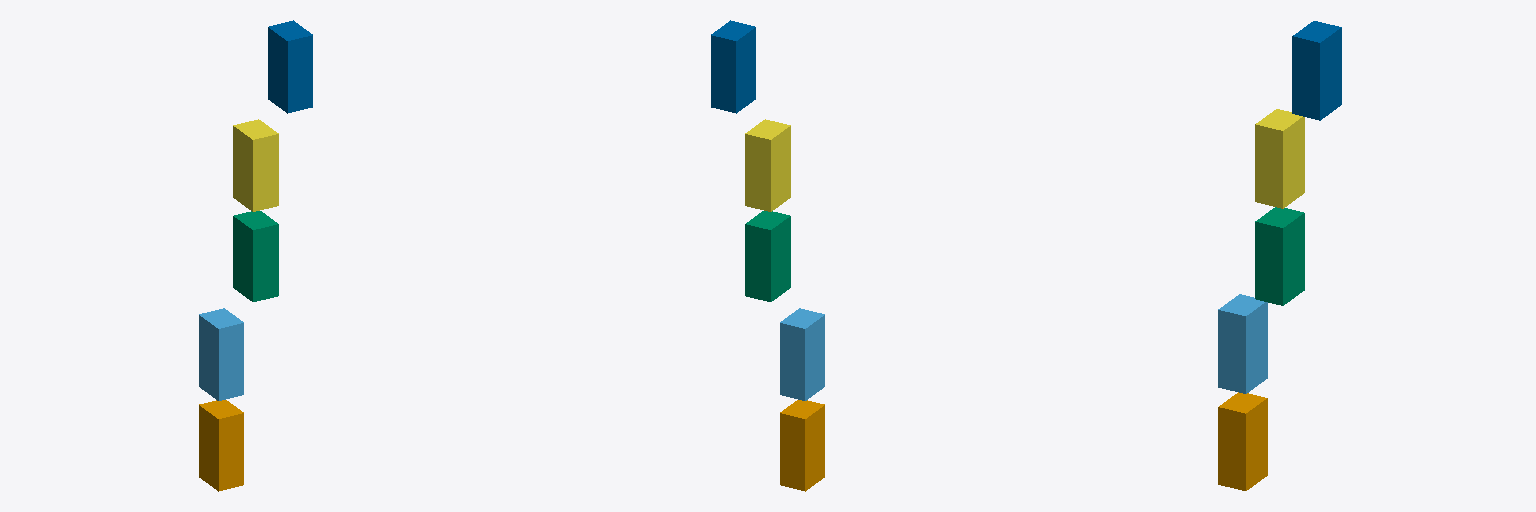
robot.urdf — AcceptanceRobot:
<?xml version="1.0"?>
<robot name="AcceptanceRobot">
<link name="link0">
<inertial><origin xyz="0 0 0.04"/><mass value="1"/><inertia ixx="0.002" iyy="0.002" izz="0.001" ixy="0" ixz="0" iyz="0"/></inertial>
<visual><origin xyz="0 0 0.04"/><geometry><box size="0.03 0.04 0.08"/></geometry></visual>
<collision><origin xyz="0 0 0.04"/><geometry><box size="0.03 0.04 0.08"/></geometry></collision>
</link>
<link name="link1">
<inertial><origin xyz="0 0 0.04"/><mass value="1"/><inertia ixx="0.002" iyy="0.002" izz="0.001" ixy="0" ixz="0" iyz="0"/></inertial>
<visual><origin xyz="0 0 0.04"/><geometry><box size="0.03 0.04 0.08"/></geometry></visual>
<collision><origin xyz="0 0 0.04"/><geometry><box size="0.03 0.04 0.08"/></geometry></collision>
</link>
<link name="link2">
<inertial><origin xyz="0 0 0.04"/><mass value="1"/><inertia ixx="0.002" iyy="0.002" izz="0.001" ixy="0" ixz="0" iyz="0"/></inertial>
<visual><origin xyz="0 0 0.04"/><geometry><box size="0.03 0.04 0.08"/></geometry></visual>
<collision><origin xyz="0 0 0.04"/><geometry><box size="0.03 0.04 0.08"/></geometry></collision>
</link>
<link name="link3">
<inertial><origin xyz="0 0 0.04"/><mass value="1"/><inertia ixx="0.002" iyy="0.002" izz="0.001" ixy="0" ixz="0" iyz="0"/></inertial>
<visual><origin xyz="0 0 0.04"/><geometry><box size="0.03 0.04 0.08"/></geometry></visual>
<collision><origin xyz="0 0 0.04"/><geometry><box size="0.03 0.04 0.08"/></geometry></collision>
</link>
<link name="link4">
<inertial><origin xyz="0 0 0.04"/><mass value="1"/><inertia ixx="0.002" iyy="0.002" izz="0.001" ixy="0" ixz="0" iyz="0"/></inertial>
<visual><origin xyz="0 0 0.04"/><geometry><box size="0.03 0.04 0.08"/></geometry></visual>
<collision><origin xyz="0 0 0.04"/><geometry><box size="0.03 0.04 0.08"/></geometry></collision>
</link>
<joint name="joint1" type="revolute"><parent link="link0"/><child link="link1"/>
<origin xyz="0 0 0.10" rpy="0 0 0"/><axis xyz="0 0 1"/><limit lower="-2" upper="2" effort="100" velocity="1"/></joint>
<joint name="joint2" type="revolute"><parent link="link1"/><child link="link2"/>
<origin xyz="0.04 0 0.10" rpy="0 0 0"/><axis xyz="0 1 0"/><limit lower="-2" upper="2" effort="100" velocity="1"/></joint>
<joint name="joint3" type="revolute"><parent link="link2"/><child link="link3"/>
<origin xyz="0 0 0.10" rpy="0 0 0"/><axis xyz="0 1 0"/><limit lower="-2" upper="2" effort="100" velocity="1"/></joint>
<joint name="joint4" type="revolute"><parent link="link3"/><child link="link4"/>
<origin xyz="0.04 0 0.10" rpy="0 0 0"/><axis xyz="1 0 0"/><limit lower="-2" upper="2" effort="100" velocity="1"/></joint>
</robot>

--- Facts derived from the render (not from the file) ---
Views: 3 orthographic renders of the robot side by side, from view 1: azimuth 30°, elevation 25°; view 2: azimuth 150°, elevation 25°; view 3: azimuth 330°, elevation 25°.
Robot: AcceptanceRobot — 5 links, 4 joints (4 revolute); root link link0; default pose: every joint at zero.
Visible links, largest first — view 1: link3, link2, link1, link4, link0; view 2: link3, link2, link1, link4, link0; view 3: link4, link2, link0, link1, link3.
Link boxes in pixels (bbox=[...]): link3: bbox=[233, 119, 278, 211]; link2: bbox=[233, 211, 278, 301]; link1: bbox=[199, 308, 243, 400]; link4: bbox=[268, 20, 312, 113]; link0: bbox=[199, 400, 243, 491]; link3: bbox=[745, 119, 790, 211]; link2: bbox=[745, 211, 790, 301]; link1: bbox=[780, 308, 824, 400]; link4: bbox=[711, 20, 755, 113]; link0: bbox=[780, 400, 824, 491]; link4: bbox=[1292, 21, 1341, 120]; link2: bbox=[1255, 207, 1304, 305]; link0: bbox=[1218, 392, 1267, 490]; link1: bbox=[1218, 294, 1267, 393]; link3: bbox=[1255, 109, 1304, 208].
Size in the robot's own frame: 0.11 by 0.04 by 0.48 metres.
Geometry: primitives only (box / cylinder / sphere), no mesh files.
